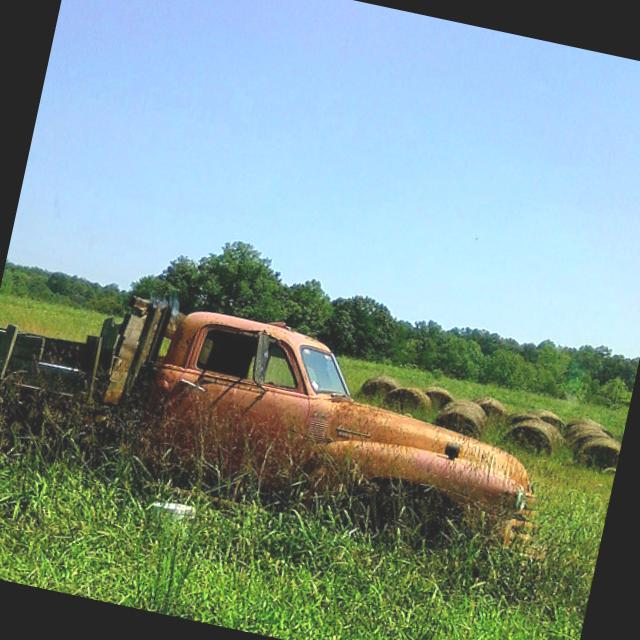Vehicle: (0, 264, 554, 570)
